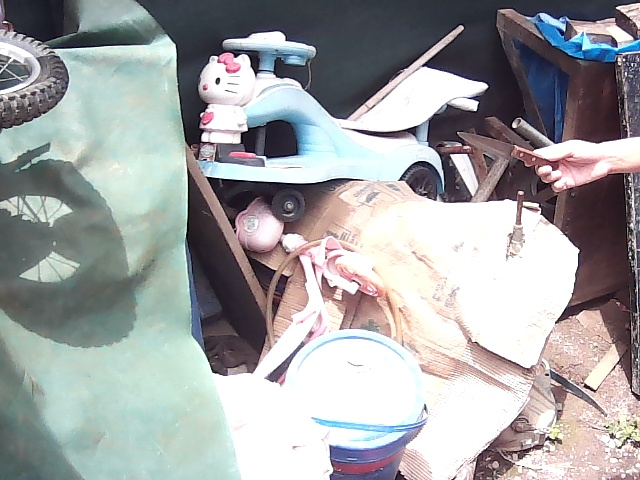cuchillo: (453, 130, 533, 166)
